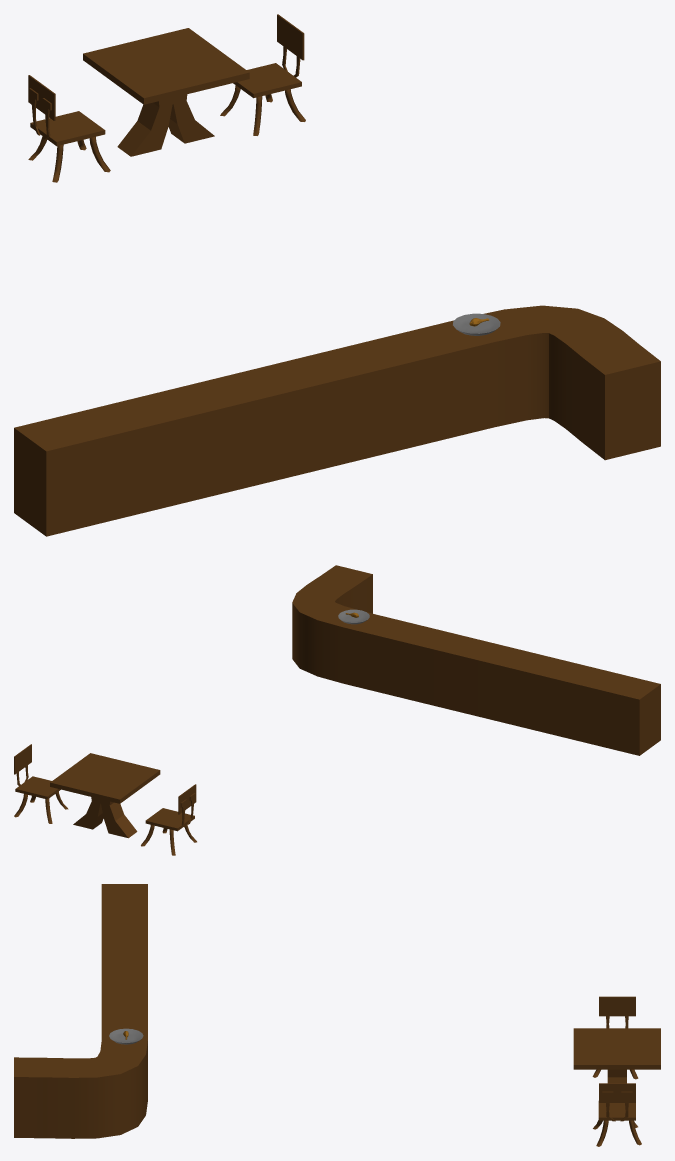
Rendered from Block_Test_PlaceHolder.fbx.
3 views of the same model, one above another, from view 1: azimuth 30°, elevation 25°; view 2: azimuth 150°, elevation 25°; view 3: azimuth 270°, elevation 25° (orthographic). The views are drawn at different scales.
Visible parts, largest first — view 1: Bunker, Table, Chair.001, Chair, Plate_Chicker; view 2: Bunker, Table, Chair.001, Chair; view 3: Bunker, Table, Chair, Chair.001, Plate_Chicker.
Boxes of the visible parts, x1,y1,x2,y2 form: Bunker: [14, 305, 660, 536]; Table: [83, 28, 249, 156]; Chair.001: [28, 75, 110, 182]; Chair: [220, 14, 305, 135]; Plate_Chicker: [453, 313, 500, 335]; Bunker: [292, 565, 660, 755]; Table: [50, 753, 160, 838]; Chair.001: [141, 784, 196, 855]; Chair: [14, 744, 68, 823]; Bunker: [14, 884, 147, 1138]; Table: [573, 1028, 660, 1083]; Chair: [593, 1083, 641, 1146]; Chair.001: [592, 996, 638, 1079]; Plate_Chicker: [109, 1028, 143, 1044].
Bounding box in the file's own units: 2532 × 403 × 3268.
